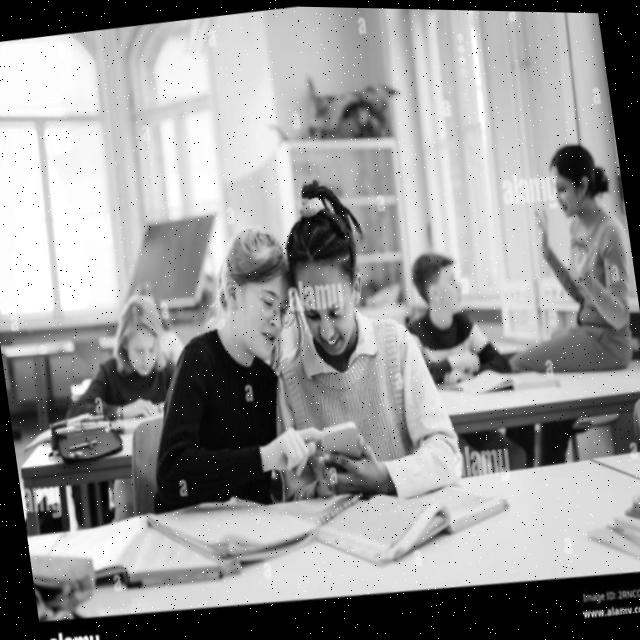phone: (316, 417, 364, 472)
